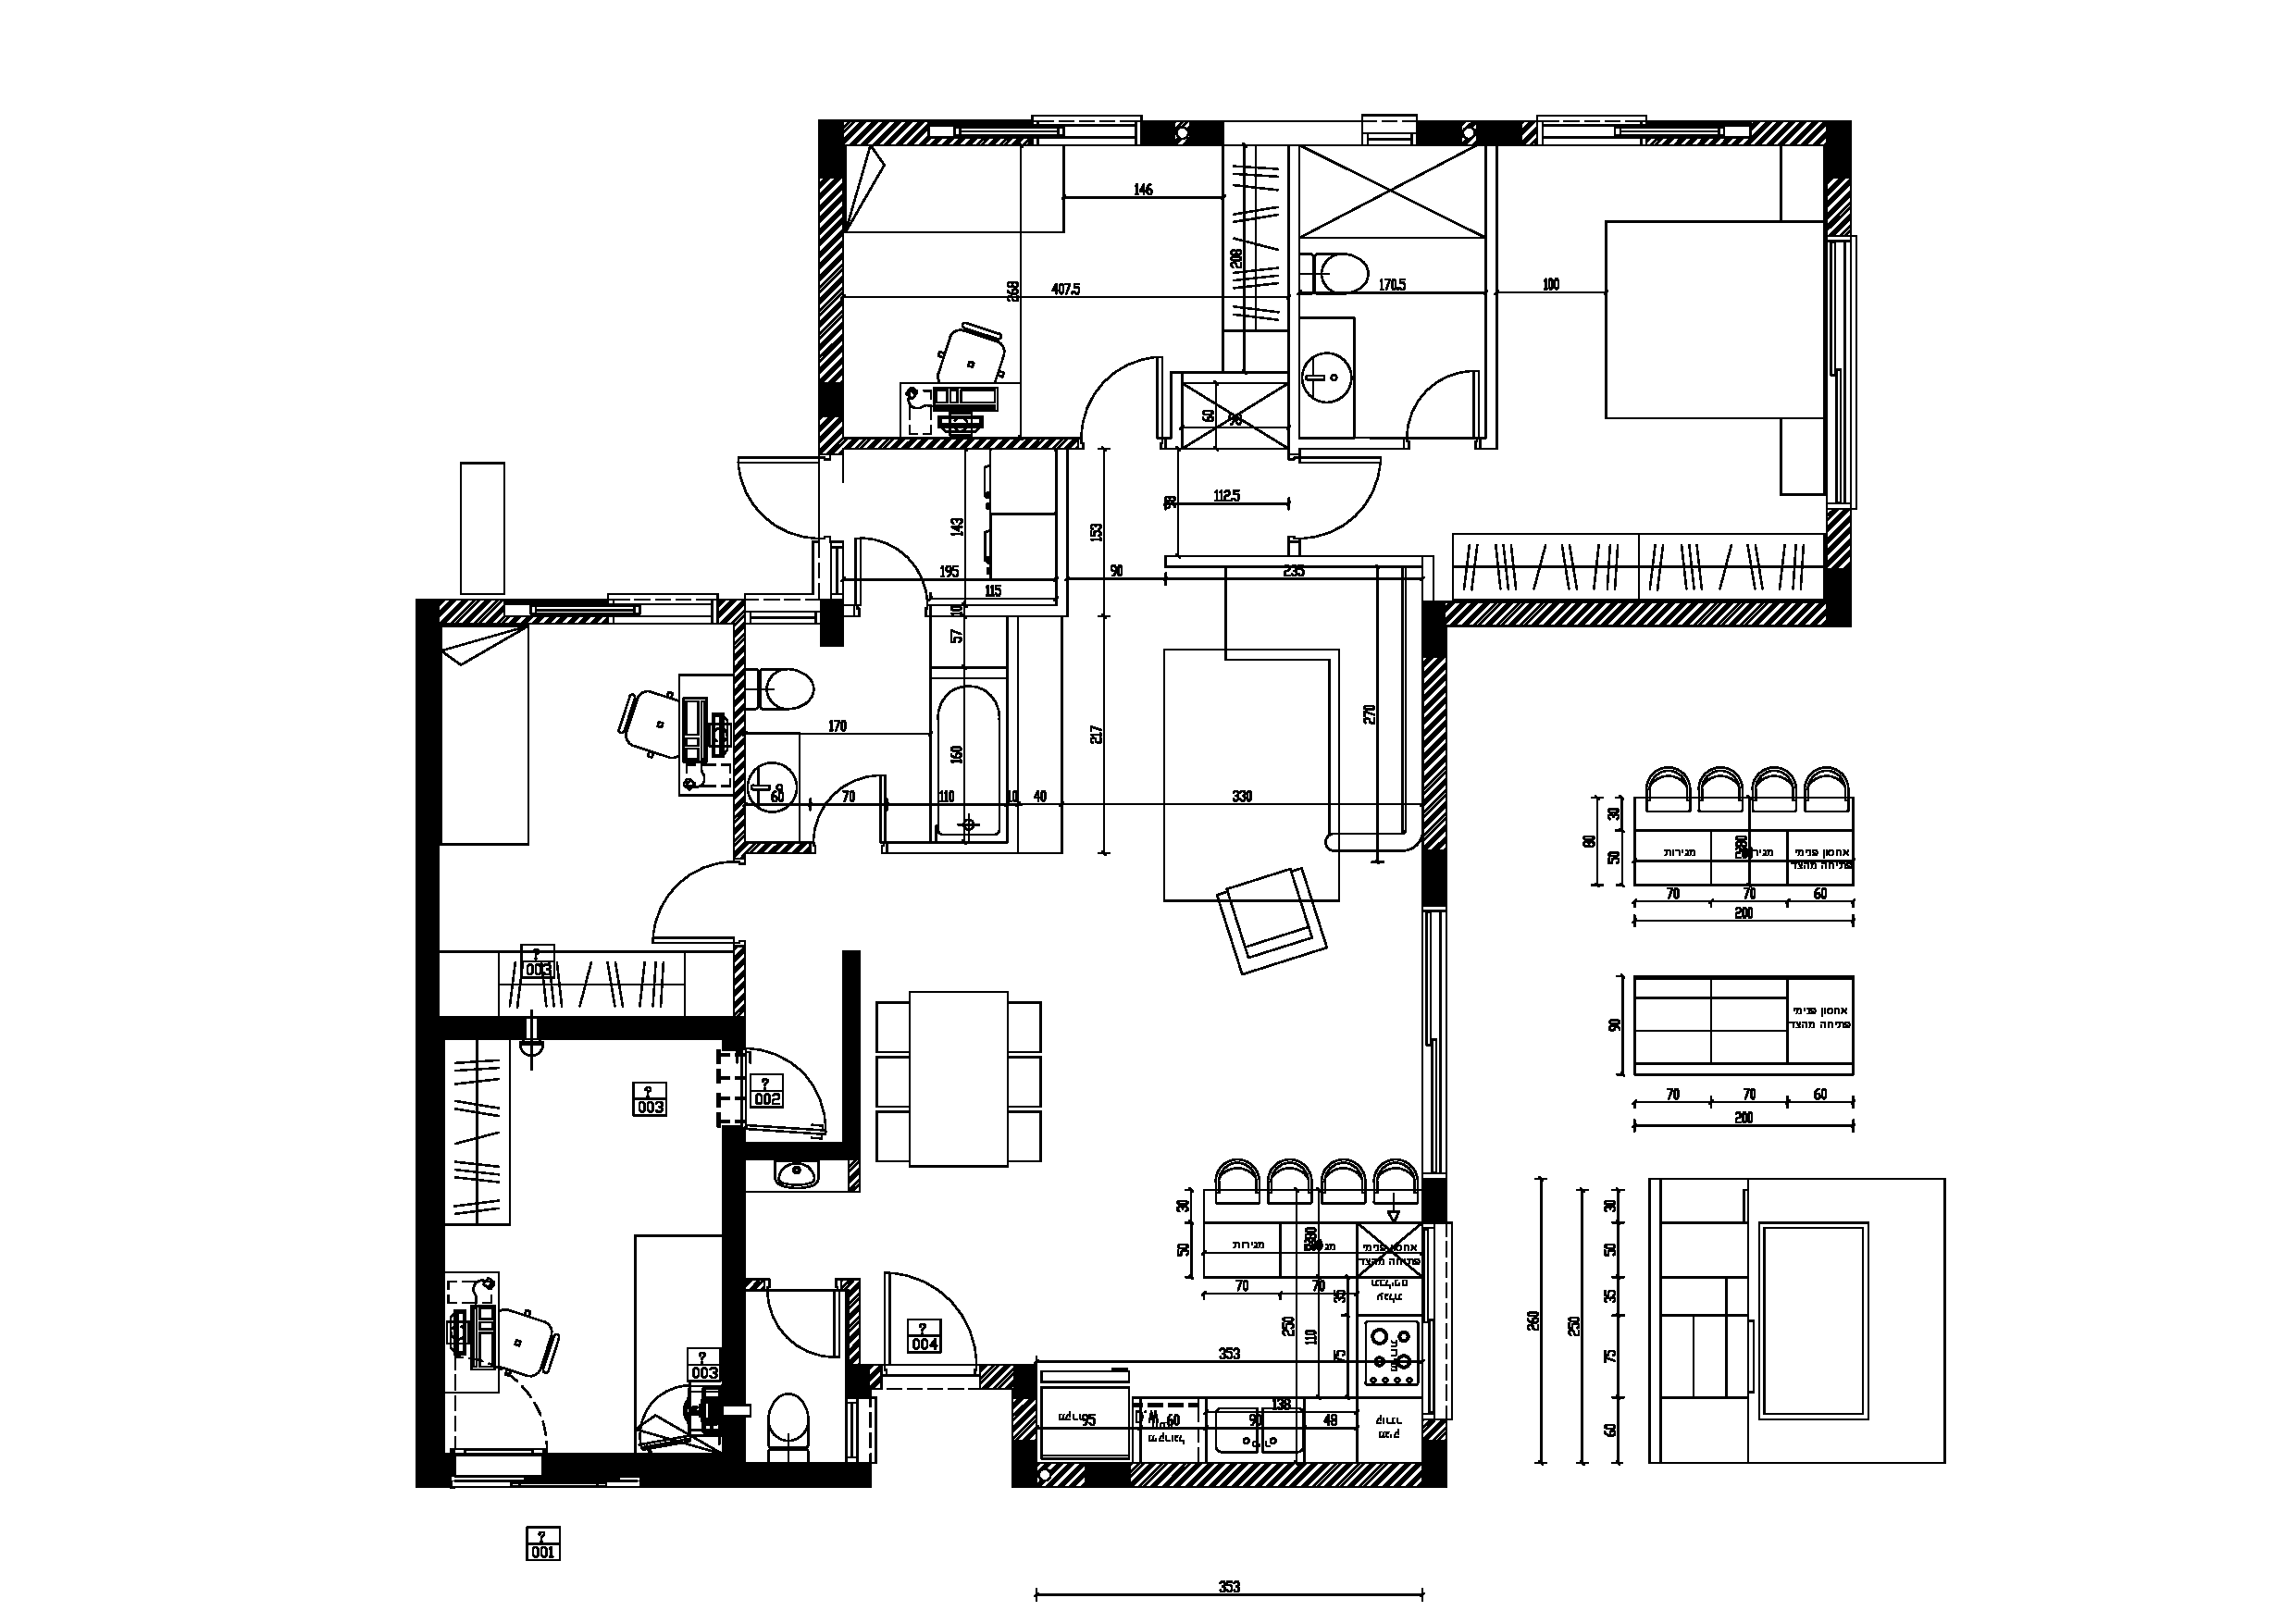door: (873, 1254, 980, 1375), (1068, 346, 1175, 444), (645, 850, 740, 956), (733, 443, 822, 543), (1302, 455, 1388, 536), (1404, 364, 1479, 436), (766, 1282, 836, 1358)
wall: (1451, 595, 1820, 620), (1147, 1465, 1426, 1488), (824, 179, 848, 385), (1419, 666, 1446, 841), (443, 602, 508, 622)
